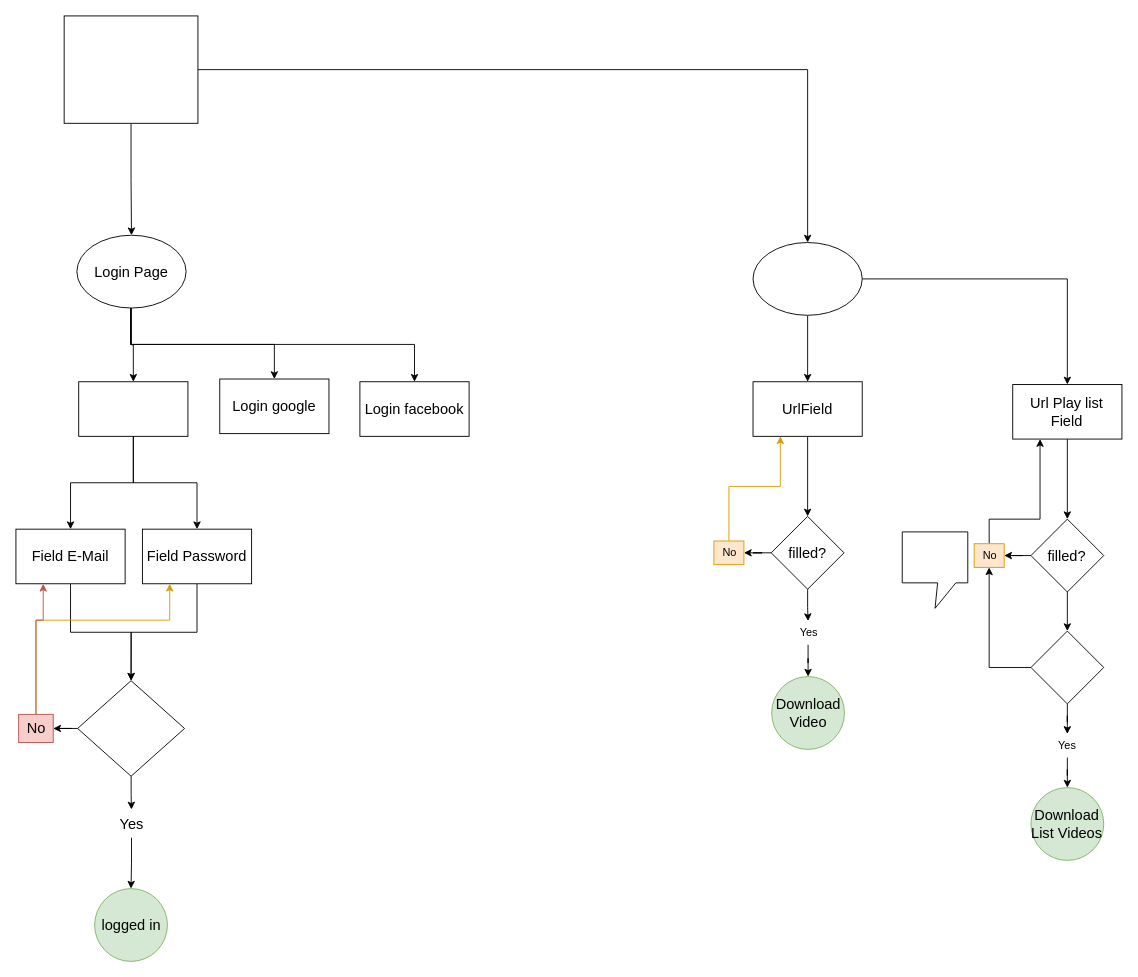
Some shapes in this 1138 by 977 pixel diagram are drawn without their labels. The shapes that lost their labels are listed below. From the top down, each one's box as (x1, y1, x2, y2) in pixels, then its label:
(63, 15, 198, 123): App YouDownload
(752, 242, 862, 315): Download Page
(78, 381, 188, 436): Required field
(901, 531, 968, 608): ! You need the signature
(1030, 630, 1104, 704): Paid?
(77, 680, 185, 776): Requerid completed?
